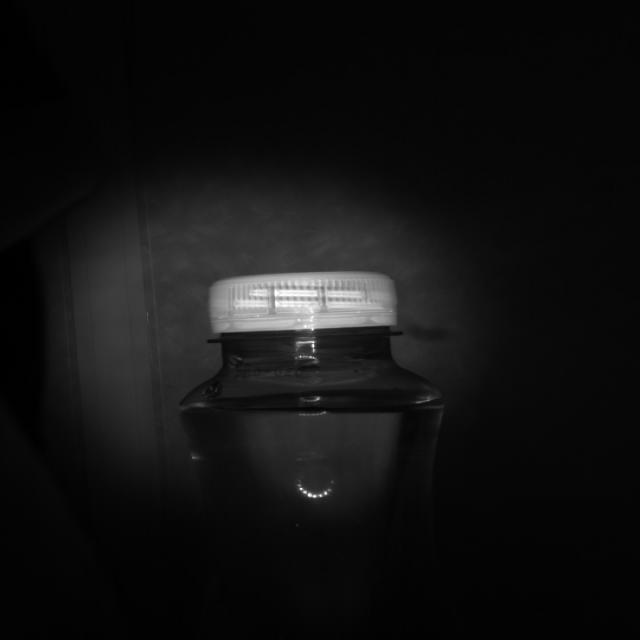Good: (206, 270, 400, 335)
